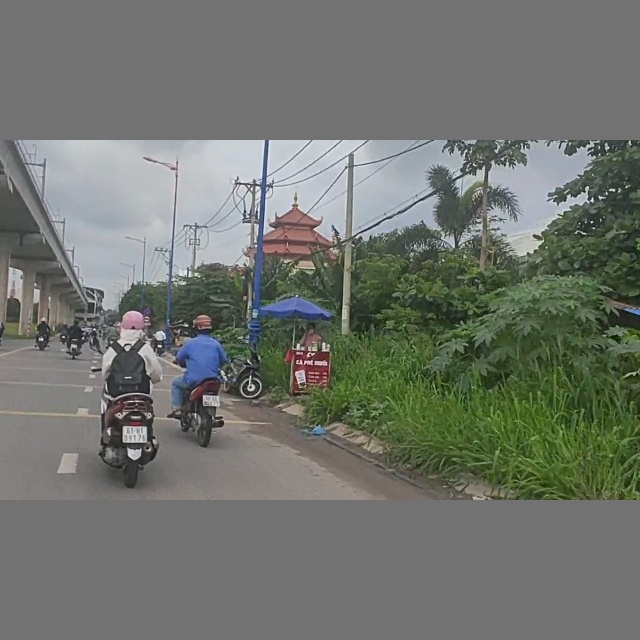B.8a: (143, 315, 151, 322)
P.130: (143, 307, 151, 315)
